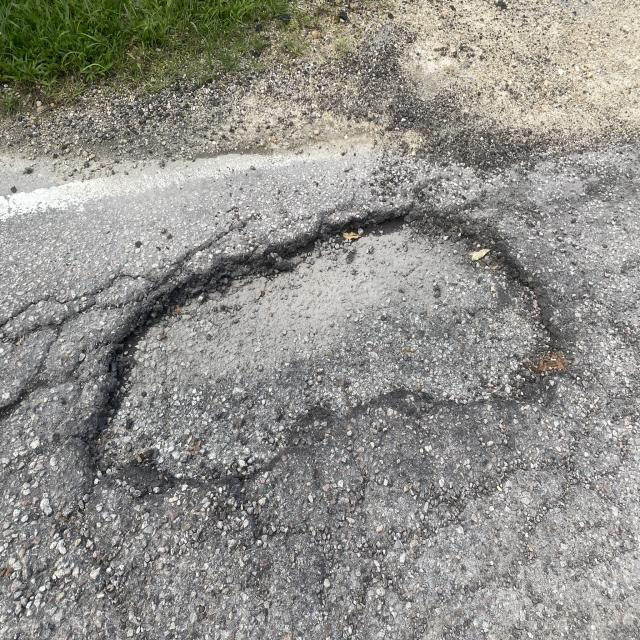pothole: (60, 177, 582, 501)
